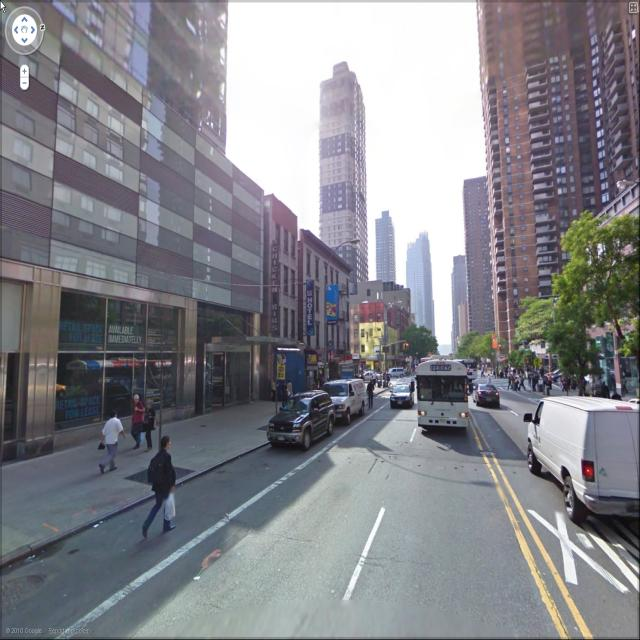b_1: (13, 1, 299, 382), (475, 7, 636, 212), (314, 58, 369, 276), (258, 191, 306, 376), (456, 180, 493, 338), (395, 222, 435, 332), (443, 246, 474, 344), (369, 199, 395, 279)
b_2: (503, 208, 632, 405)
